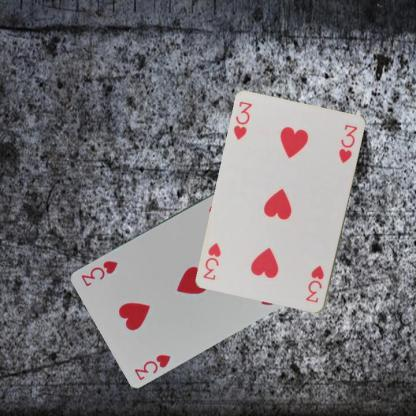3h: (132, 352, 172, 382), (231, 98, 254, 141), (303, 263, 326, 304)
